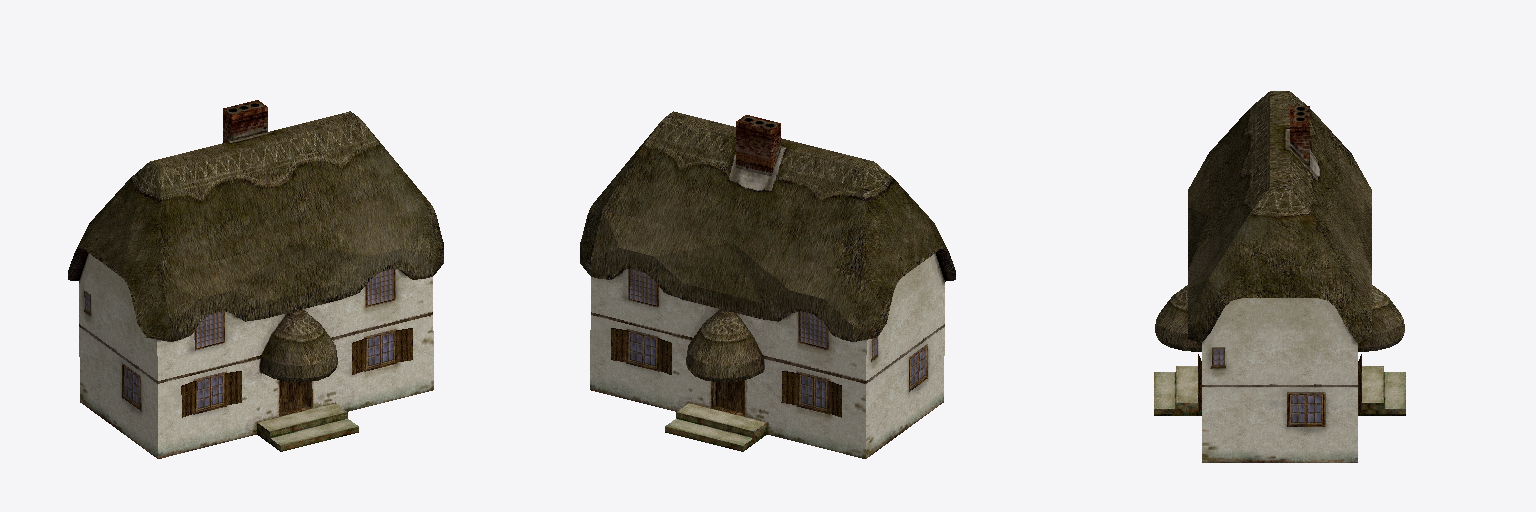
The picture shows the model from 3 angles: view 1: azimuth 30°, elevation 25°; view 2: azimuth 150°, elevation 25°; view 3: azimuth 270°, elevation 25°; orthographic projection.
Visible parts, largest first — view 1: English_thatched_house_English_thatched_house; view 2: English_thatched_house_English_thatched_house; view 3: English_thatched_house_English_thatched_house.
Boxes of the visible parts, box(x1,y1,x2,y2) form: English_thatched_house_English_thatched_house: box(68, 100, 443, 458); English_thatched_house_English_thatched_house: box(580, 111, 955, 458); English_thatched_house_English_thatched_house: box(1154, 91, 1405, 462).
Size of the model in its own units: 61.32 by 53.88 by 43.61.
1 materials, 1 textured.